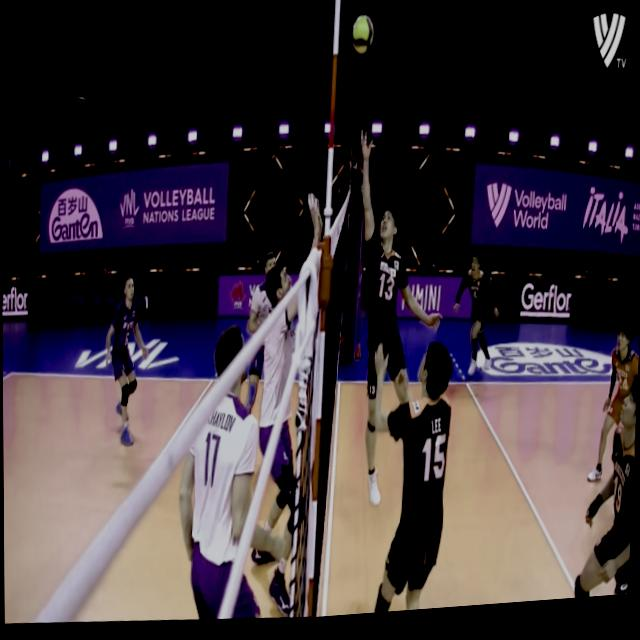player: (341, 124, 451, 515), (247, 191, 320, 622), (357, 341, 464, 619), (566, 386, 639, 607), (585, 330, 640, 495), (102, 277, 150, 452), (449, 254, 504, 387)
